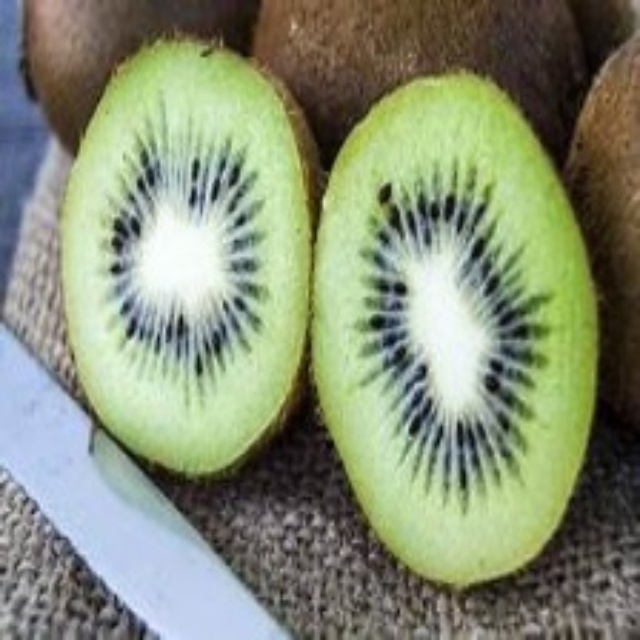kiwi: (329, 82, 608, 585), (67, 38, 309, 480)
